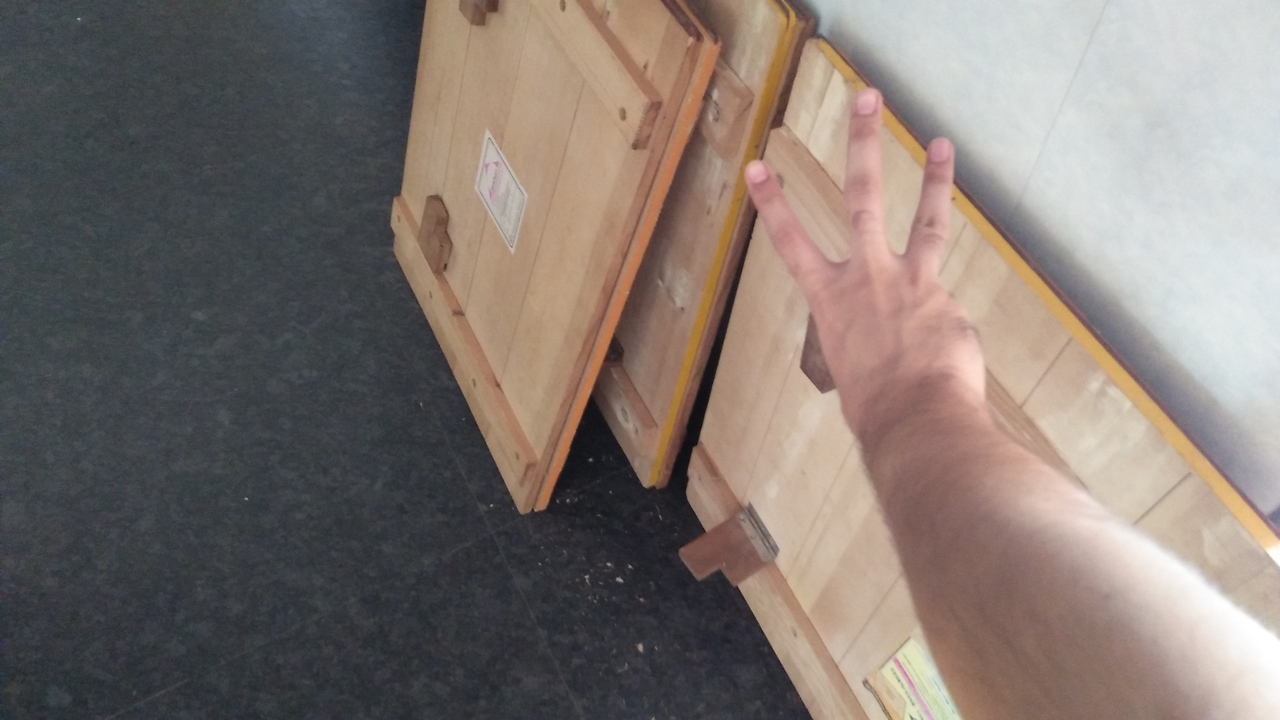fingertip: (732, 148, 790, 206), (842, 74, 894, 126), (916, 126, 968, 170)
